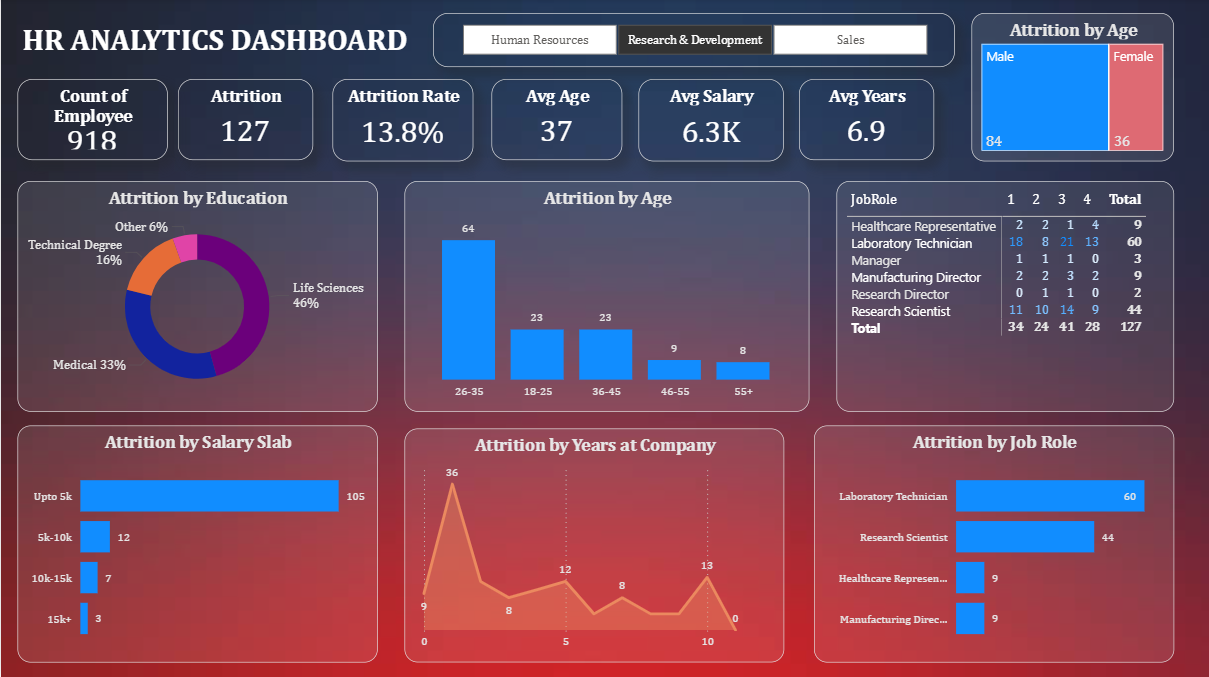

The dashboard page shown, as its layout file describes it:
{"tool":"powerbi","page":{"name":"Page 1","canvas":[1280,720],"ordinal":0},"visuals":[{"type":"card","title":"Attrition Rate","fields":{"Values":["HR_Analytics.Attrition Rate"]},"box":[351.5,85.9,149.5,87.5],"z":0},{"type":"card","title":"Attrition","fields":{"Values":["Sum(HR_Analytics.AttritionCount)"]},"box":[187.7,85.9,143.2,85.9],"z":1000},{"type":"card","title":"Count of Employee","fields":{"Values":["CountNonNull(HR_Analytics.EmpID)"]},"box":[17.5,85.9,159.1,85.9],"z":2000},{"type":"card","title":"Avg Age","fields":{"Values":["Avg(HR_Analytics.Age)"]},"box":[520.1,85.9,138.4,85.9],"z":3000},{"type":"card","title":"Avg Salary","fields":{"Values":["Avg(HR_Analytics.MonthlyIncome)"]},"box":[676,85.9,154.3,87.5],"z":4000},{"type":"card","title":"Avg Years","fields":{"Values":["Avg(HR_Analytics.YearsAtCompany)"]},"box":[846.2,85.9,143.2,85.9],"z":5000},{"type":"donutChart","title":"Attrition by Education","fields":{"Category":["HR_Analytics.EducationField"],"Y":["Sum(HR_Analytics.AttritionCount)"]},"box":[17.5,194.1,381.7,245],"z":6000},{"type":"columnChart","title":"Attrition by Age","fields":{"Category":["HR_Analytics.AgeGroup"],"Y":["Sum(HR_Analytics.AttritionCount)"]},"box":[427.9,194.1,429.5,245],"z":7000},{"type":"pivotTable","fields":{"Rows":["HR_Analytics.JobRole"],"Values":["Sum(HR_Analytics.AttritionCount)"],"Columns":["HR_Analytics.JobSatisfaction"]},"box":[886,194.1,357.9,245],"z":8000},{"type":"barChart","title":"Attrition by Salary Slab","fields":{"Category":["HR_Analytics.SalarySlab"],"Y":["Sum(HR_Analytics.AttritionCount)"]},"box":[17.5,453.3,381.7,251.3],"z":8001},{"type":"barChart","title":"Attrition by Job Role","fields":{"Category":["HR_Analytics.JobRole"],"Y":["Sum(HR_Analytics.AttritionCount)"]},"box":[862.1,453.3,381.7,251.3],"z":8002},{"type":"areaChart","title":"Attrition by Years at Company","fields":{"Category":["HR_Analytics.YearsAtCompany"],"Y":["Sum(HR_Analytics.AttritionCount)"]},"box":[427.9,456.5,402.4,248.1],"z":8003},{"type":"treemap","title":"Attrition by Age","fields":{"Group":["HR_Analytics.Gender"],"Values":["Sum(HR_Analytics.AttritionCount)"]},"box":[1029.1,15.9,214.7,157.5],"z":8004},{"type":"slicer","fields":{"Values":["HR_Analytics.Department"]},"box":[458.1,15.9,553.5,57.3],"z":8005},{"type":"textbox","box":[17.5,19.1,419.9,54.1],"z":8006}]}

Visuals, with their boxes in screenshot pixels (x1, y1, x2, y2), scaled from the page's 1280x720 canvas onto the 1209x677 screenshot:
"Attrition Rate" card: 332,81,473,163
"Attrition" card: 177,81,313,162
"Count of Employee" card: 17,81,167,162
"Avg Age" card: 491,81,622,162
"Avg Salary" card: 639,81,784,163
"Avg Years" card: 799,81,935,162
"Attrition by Education" donutChart: 17,183,377,413
"Attrition by Age" columnChart: 404,183,810,413
pivotTable - HR_Analytics.JobRole x Sum(HR_Analytics.AttritionCount): 837,183,1175,413
"Attrition by Salary Slab" barChart: 17,426,377,663
"Attrition by Job Role" barChart: 814,426,1175,663
"Attrition by Years at Company" areaChart: 404,429,784,663
"Attrition by Age" treemap: 972,15,1175,163
slicer - HR_Analytics.Department: 433,15,955,69
textbox: 17,18,413,69
